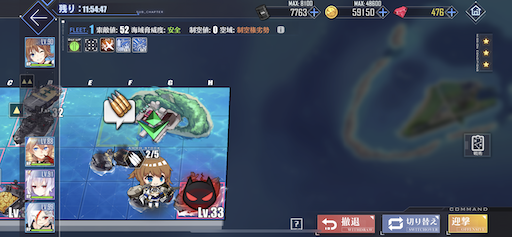boss: (177, 172, 225, 219)
